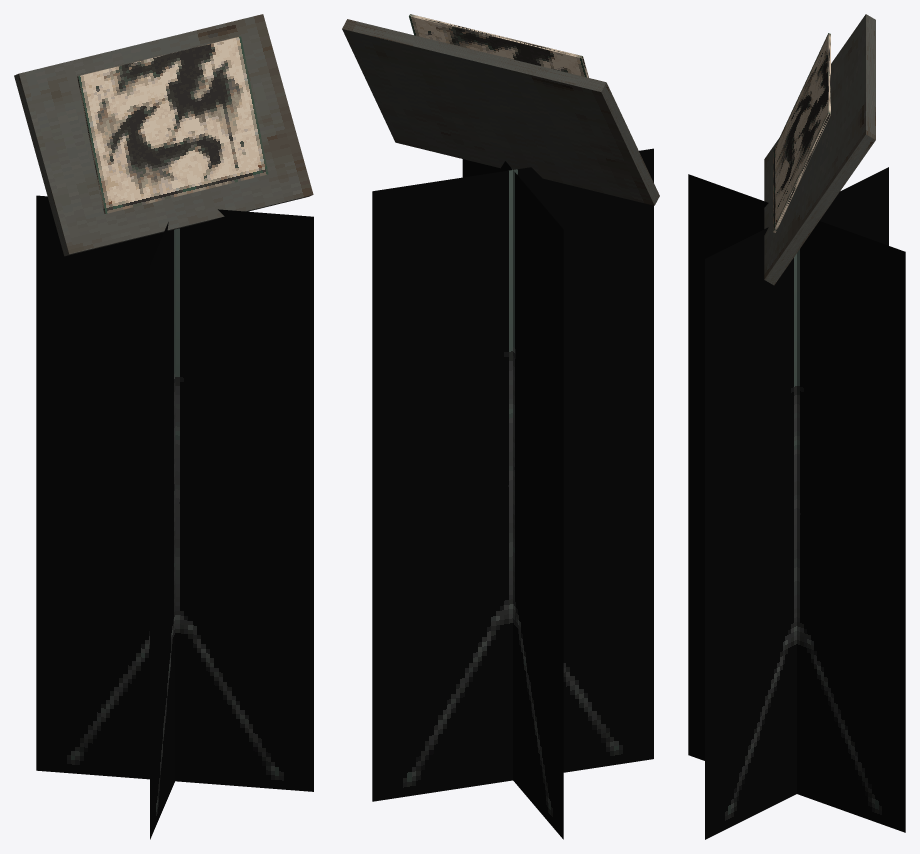
File: prop_musicstand-2.glb
3 renders of one model, left to right at view 1: azimuth 30°, elevation 25°; view 2: azimuth 150°, elevation 25°; view 3: azimuth 270°, elevation 25°, orthographic. The views are drawn at different scales.
Visible parts, largest first — view 1: prop_musicstand-2; view 2: prop_musicstand-2; view 3: prop_musicstand-2.
Part boxes in pixels (x1,y1,x2,y2): prop_musicstand-2: (14,14,313,839); prop_musicstand-2: (342,14,659,839); prop_musicstand-2: (688,14,905,839).
Size of the model in its own units: 0.48 by 1.34 by 0.3663.
3 materials, 3 textured.
